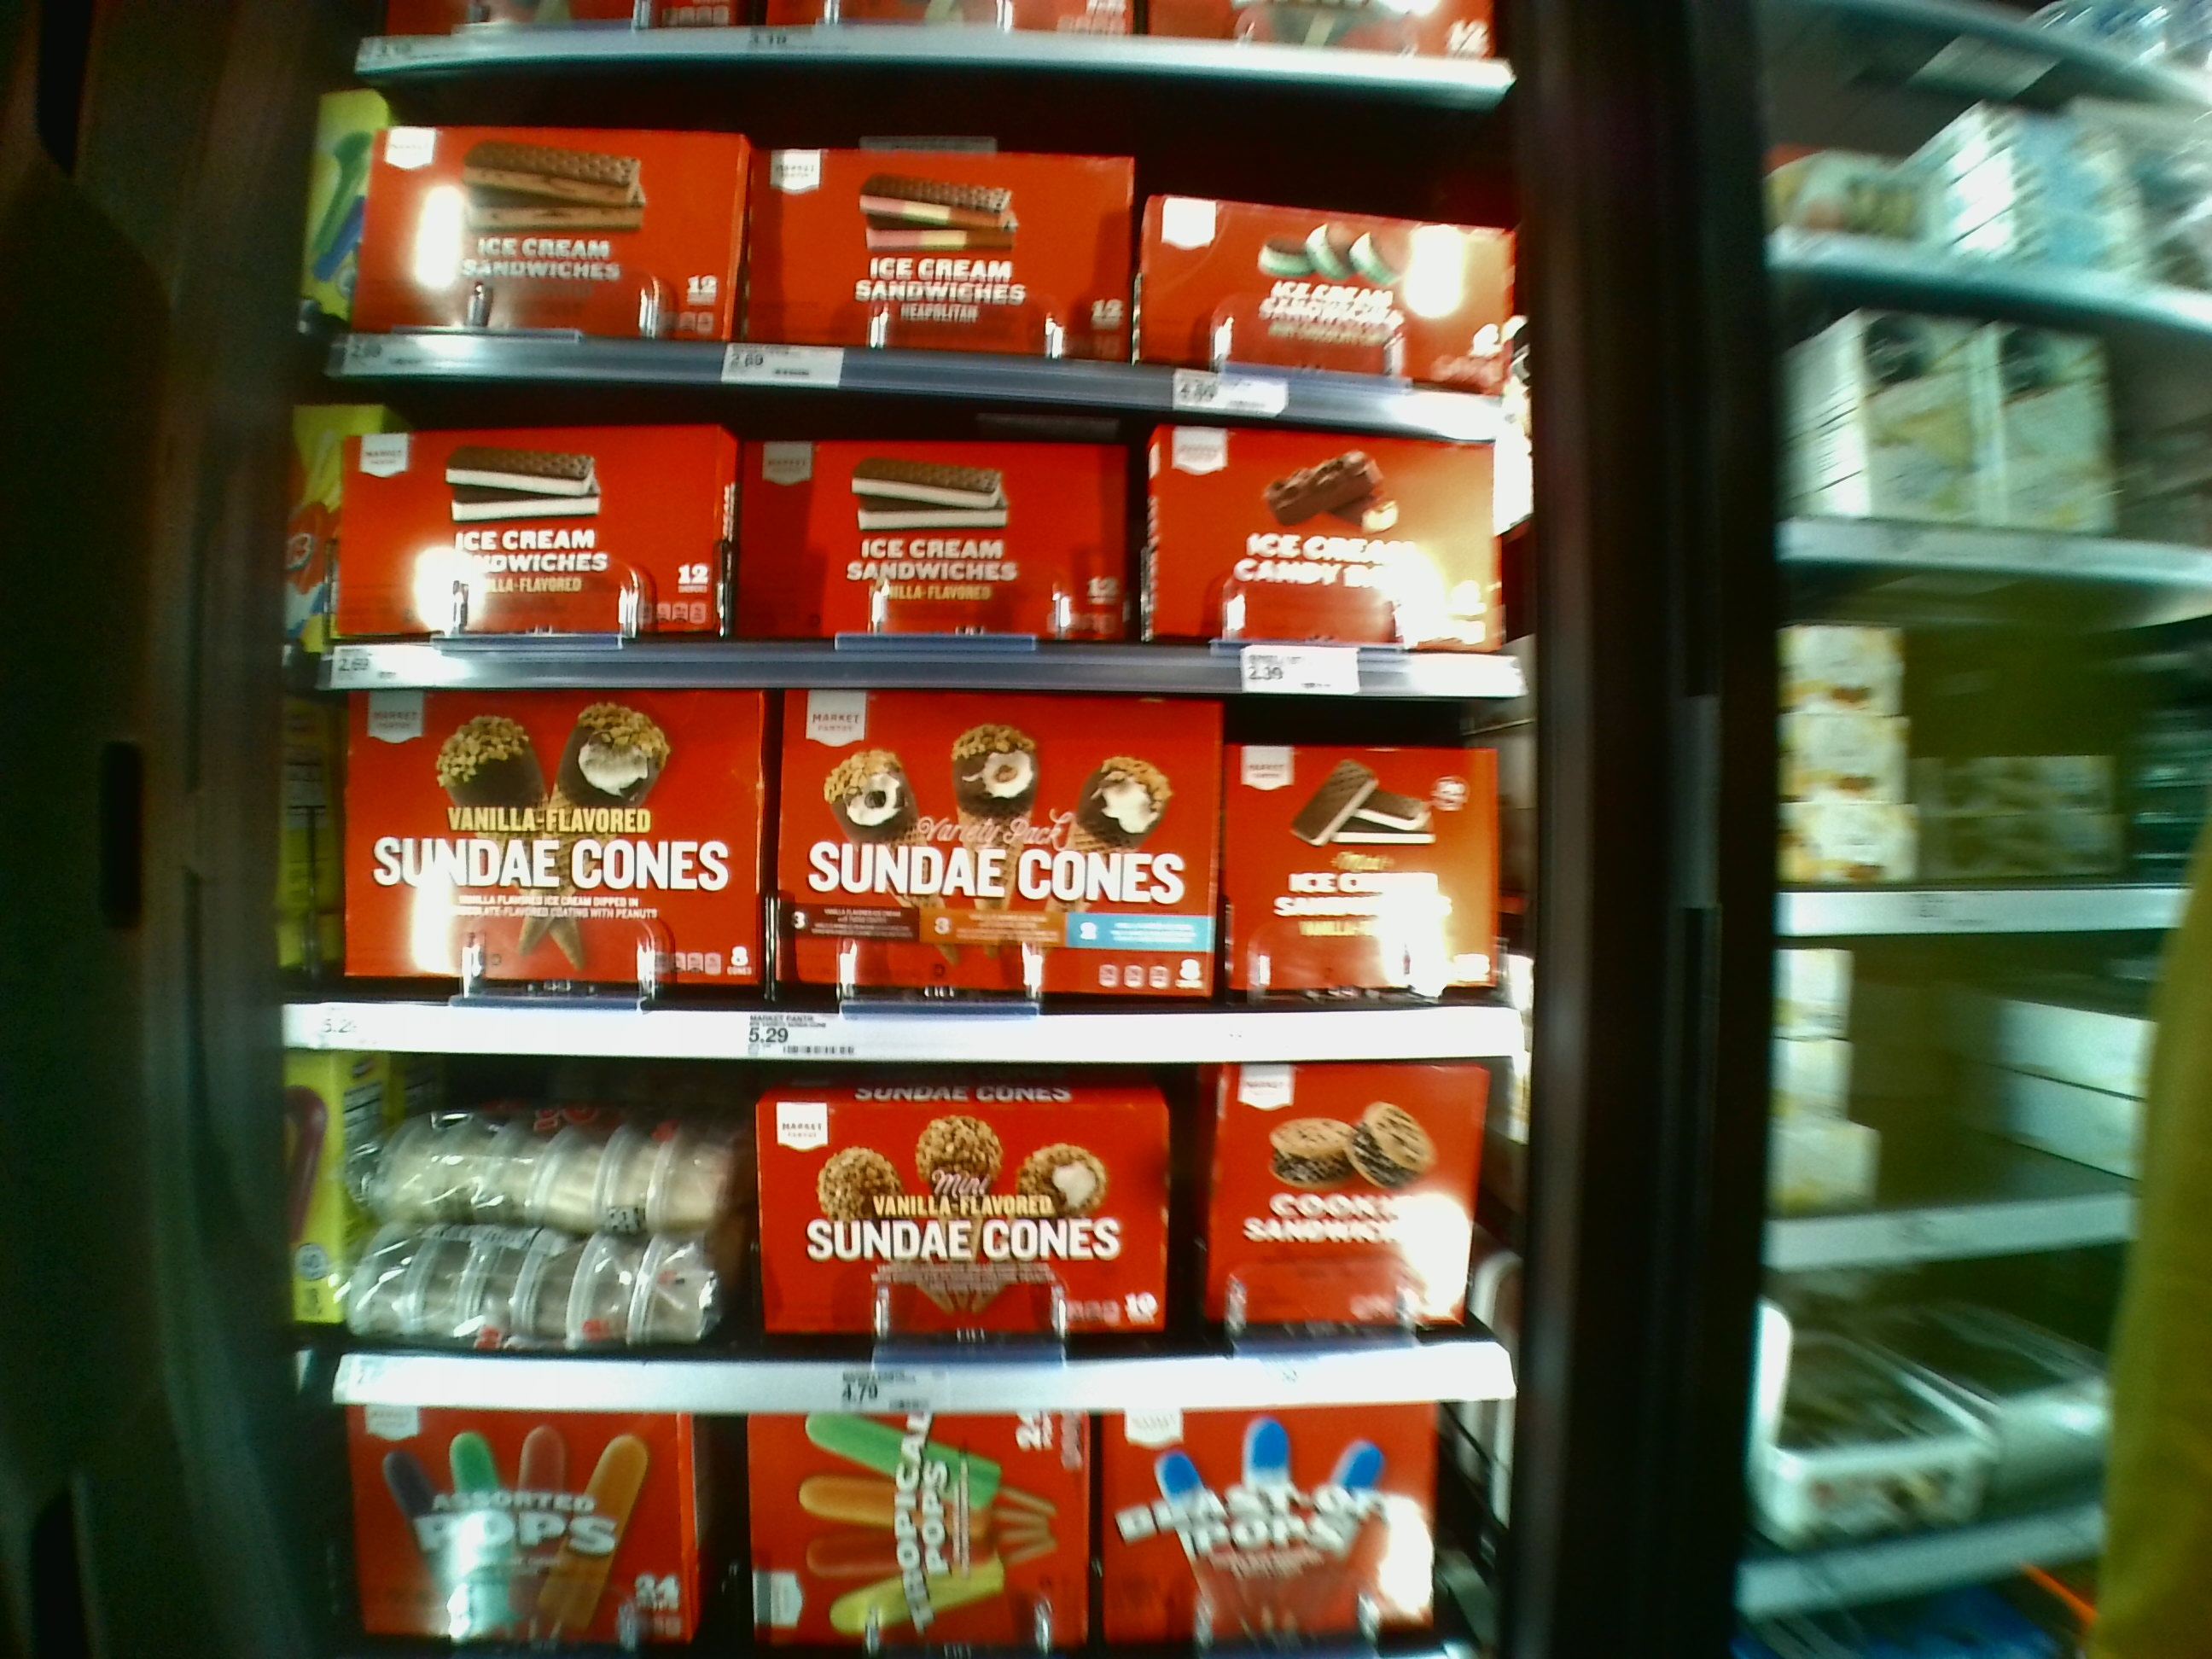shelf: (340, 64, 1508, 439), (326, 702, 1514, 1061), (333, 1065, 1514, 1417), (327, 401, 1527, 708)
